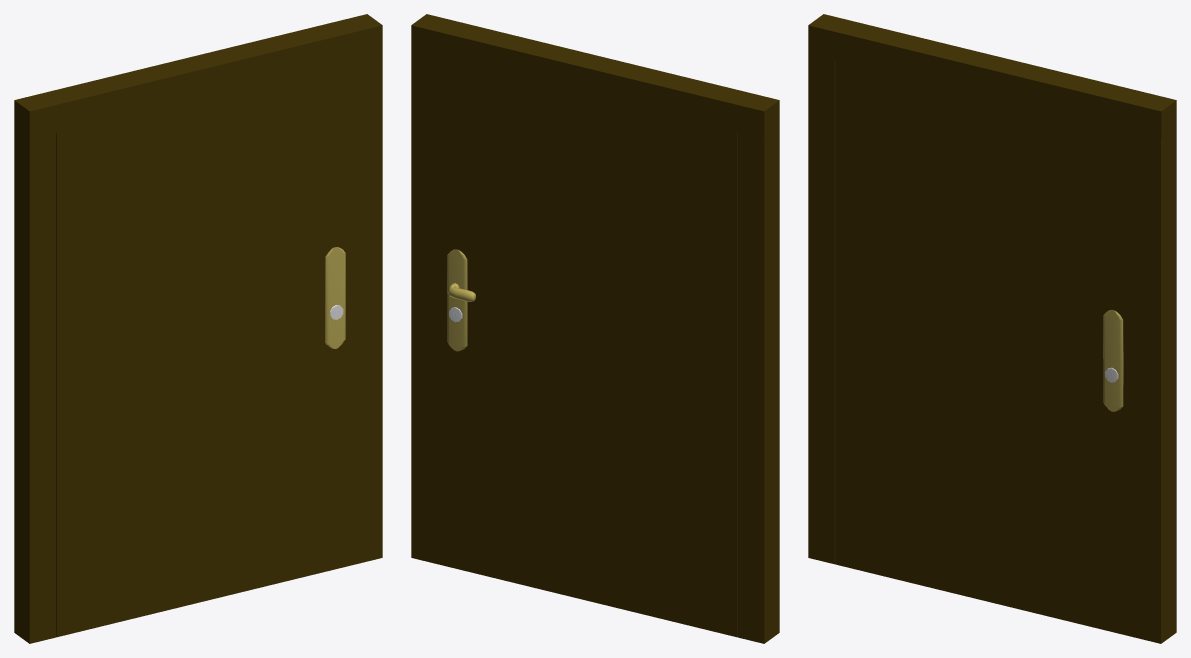
Rendered from Puerta.fbx.
The picture shows the model from 3 angles, left to right: view 1: azimuth 30°, elevation 25°; view 2: azimuth 150°, elevation 25°; view 3: azimuth 330°, elevation 25°; orthographic projection.
Parts seen in each view (by area): view 1: Cube.003, Cube.001, Cube.002, Cube, Locker.001; view 2: Cube.003, Cube.001, Cube.002, Cube, Locker; view 3: Cube.003, Cube, Cube.002, Cube.001, Locker.001.
Part boxes in pixels (<box>): Cube.003: <box>56,59,356,637</box>; Cube.001: <box>14,128,56,643</box>; Cube.002: <box>14,14,382,138</box>; Cube: <box>356,53,382,563</box>; Locker.001: <box>325,247,345,348</box>; Cube.003: <box>437,59,737,637</box>; Cube.001: <box>737,128,779,643</box>; Cube.002: <box>411,14,779,138</box>; Cube: <box>411,53,437,563</box>; Locker: <box>447,249,475,351</box>; Cube.003: <box>835,59,1135,637</box>; Cube: <box>1134,128,1176,643</box>; Cube.002: <box>808,14,1176,138</box>; Cube.001: <box>808,53,835,564</box>; Locker.001: <box>1103,309,1123,411</box>.
Bounding box in the file's own units: 216 × 311 × 29.64.
